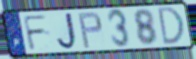3: (107, 7, 131, 51)
8: (133, 7, 159, 47)
D: (157, 6, 186, 47)
F: (22, 13, 50, 52)
J: (56, 12, 78, 51)
P: (77, 11, 104, 50)
